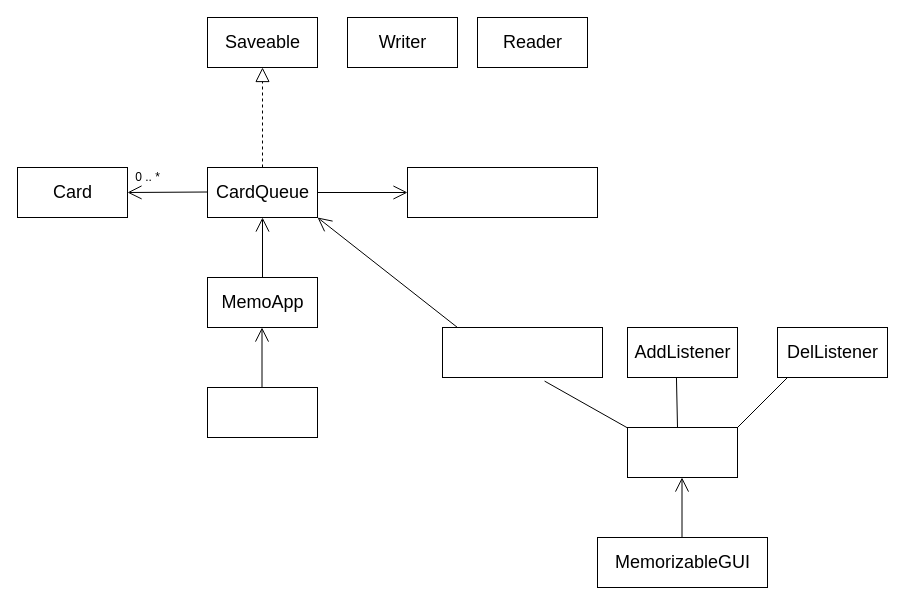
This 905x605 diagram has some shape labels left out. The centre of each missing label's shape, as x and y in pixels:
"CardDateComparator" belongs at [502,192].
"Main" belongs at [262,412].
"QueueGUI" belongs at [682,452].
"ReviewListener" belongs at [522,352].
